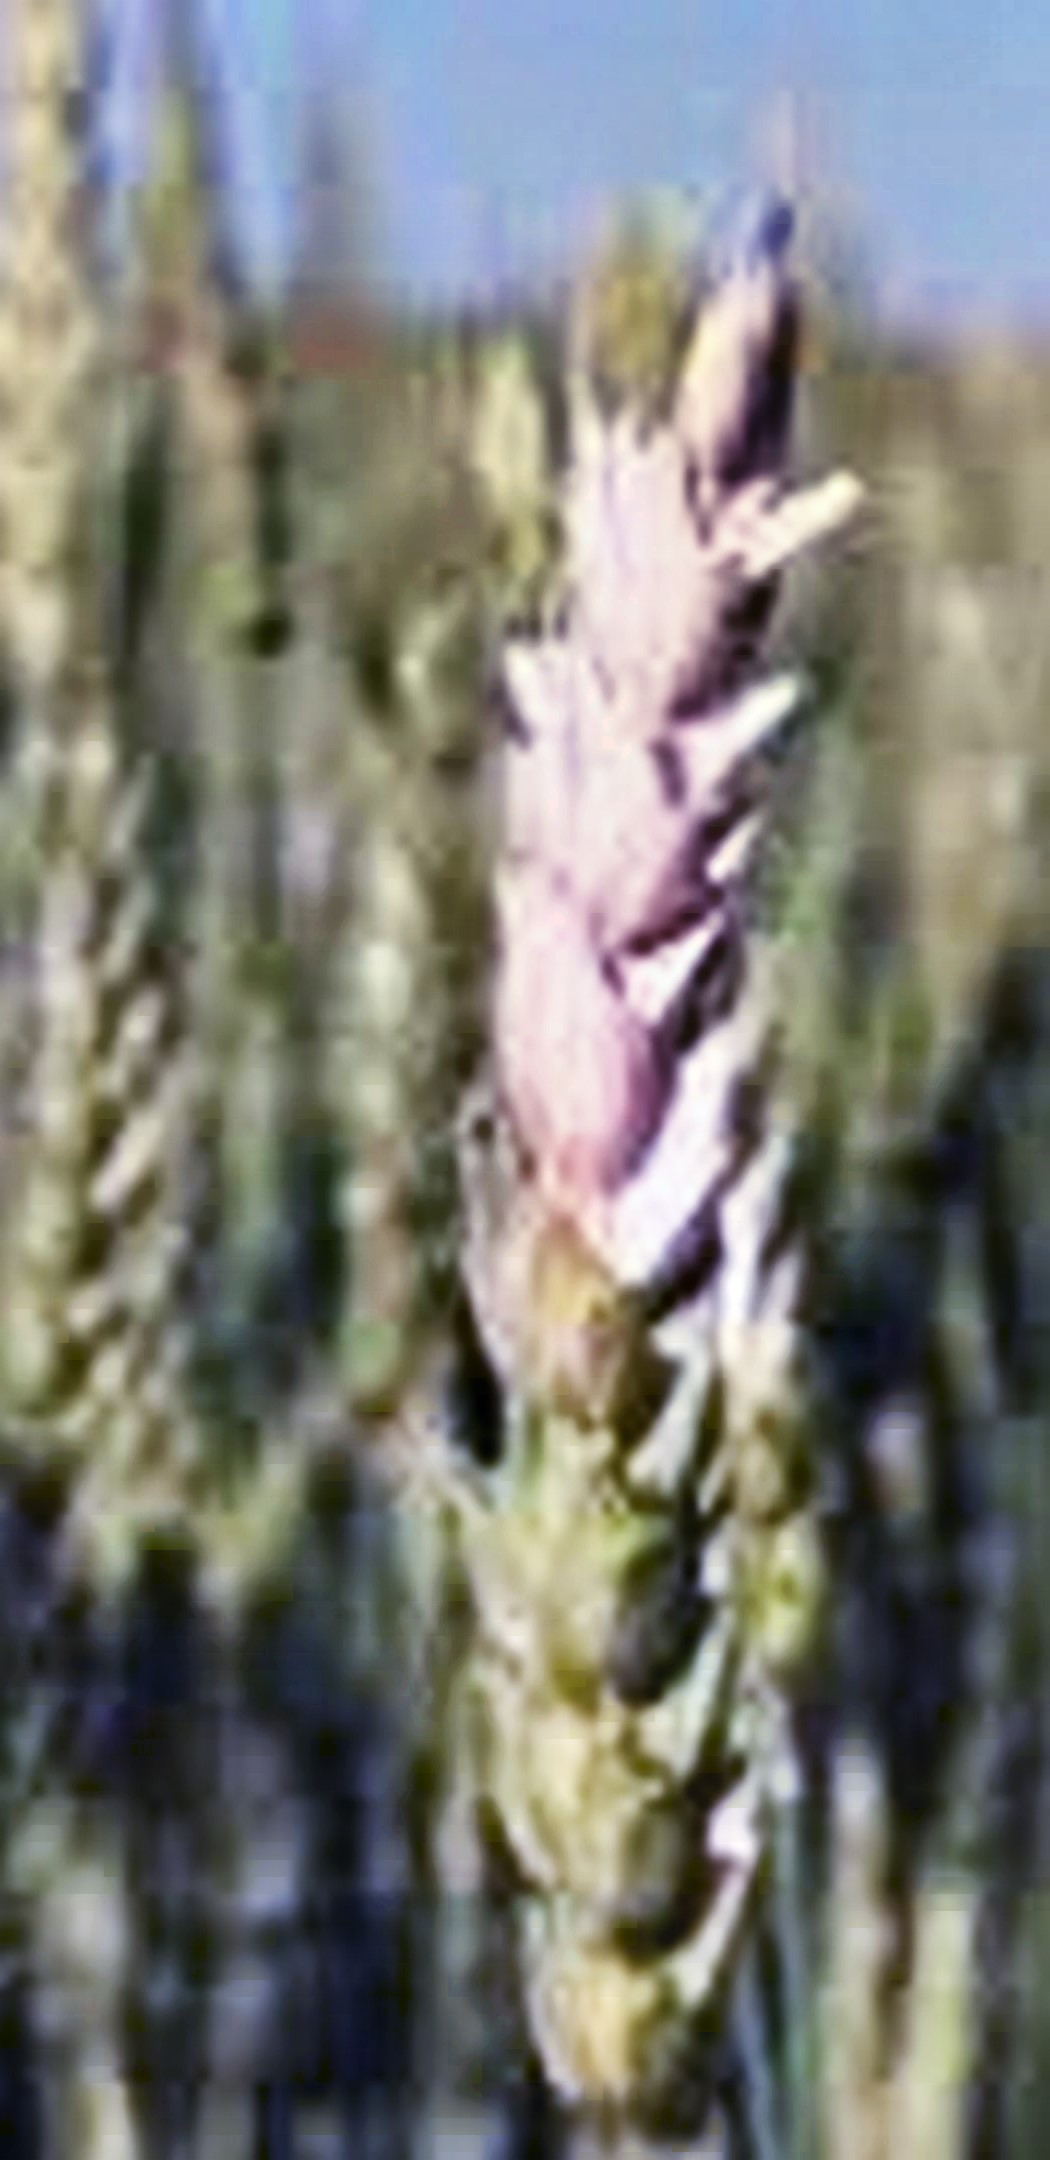Wheat scab: (463, 263, 812, 2019)
